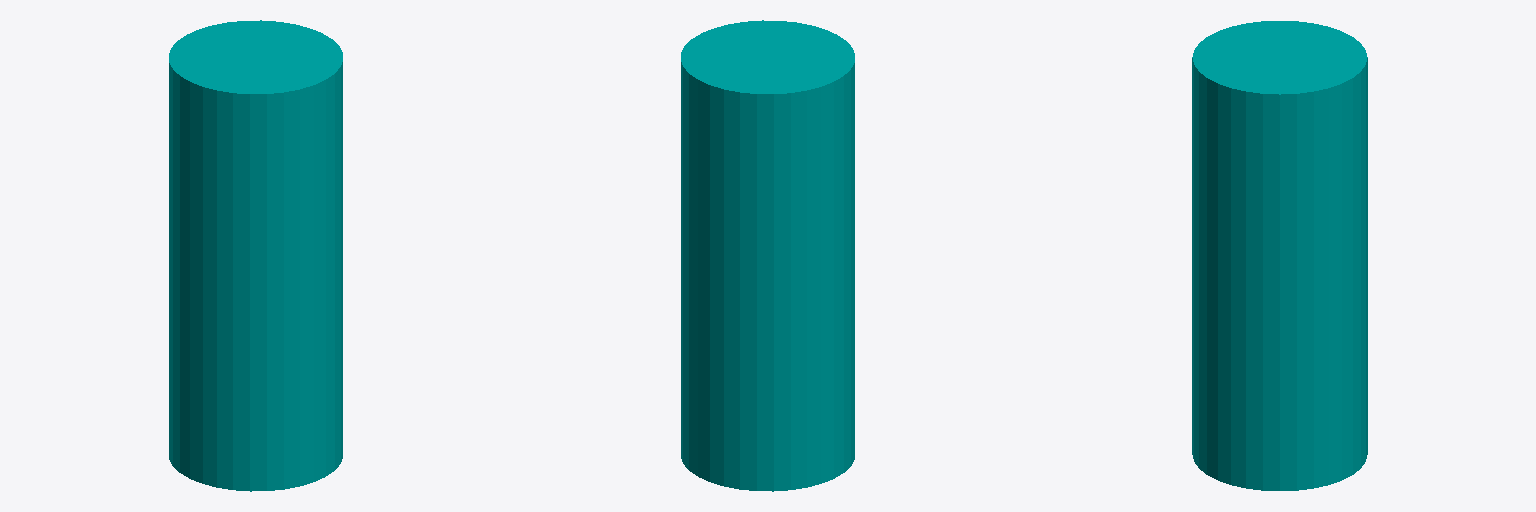
The robot description file, URDF, robot "cylinder":
<?xml version='1.0' encoding='UTF-8'?>
<robot name="cylinder">
  <link name="base_link">
    <inertial>
      <origin xyz="0.0 0.0 0.0" rpy="0.0 -0.0 0.0"/>
      <mass value="1.0"/>
      <inertia ixx="1.0" ixy="0.0" ixz="0.0" iyy="1.0" iyz="0.0" izz="1.0"/>
    </inertial>
    <visual name="base_link_visual">
      <geometry>
        <cylinder radius="0.3" length="1.5"/>
      </geometry>
      <origin xyz="0 0 0" rpy="0 0 0"/>
      <material name="object_color">
        <color rgba="0 0.7 0.7 1"/>
      </material>
    </visual>
    <collision name="base_link_collision">
      <geometry>
        <cylinder radius="0.3" length="1.5"/>
      </geometry>
      <origin xyz="0 0 0" rpy="0 0 0"/>
    </collision>
  </link>
</robot> 

--- Facts derived from the render (not from the file) ---
Views: 3 orthographic renders of the robot side by side, from view 1: azimuth 30°, elevation 25°; view 2: azimuth 150°, elevation 25°; view 3: azimuth 270°, elevation 25°.
Model cylinder with 1 links and 0 joints (none), rooted at base_link, posed every joint at zero.
Links seen in each view (by area): view 1: base_link; view 2: base_link; view 3: base_link.
Boxes of the visible links, left/top/right/bottom form: base_link: left=169, top=20, right=342, bottom=491; base_link: left=681, top=20, right=854, bottom=491; base_link: left=1192, top=21, right=1367, bottom=490.
Bounding box of the posed robot: 0.6 × 0.6 × 1.5 m (x, y, z).
Geometry: primitives only (box / cylinder / sphere), no mesh files.
